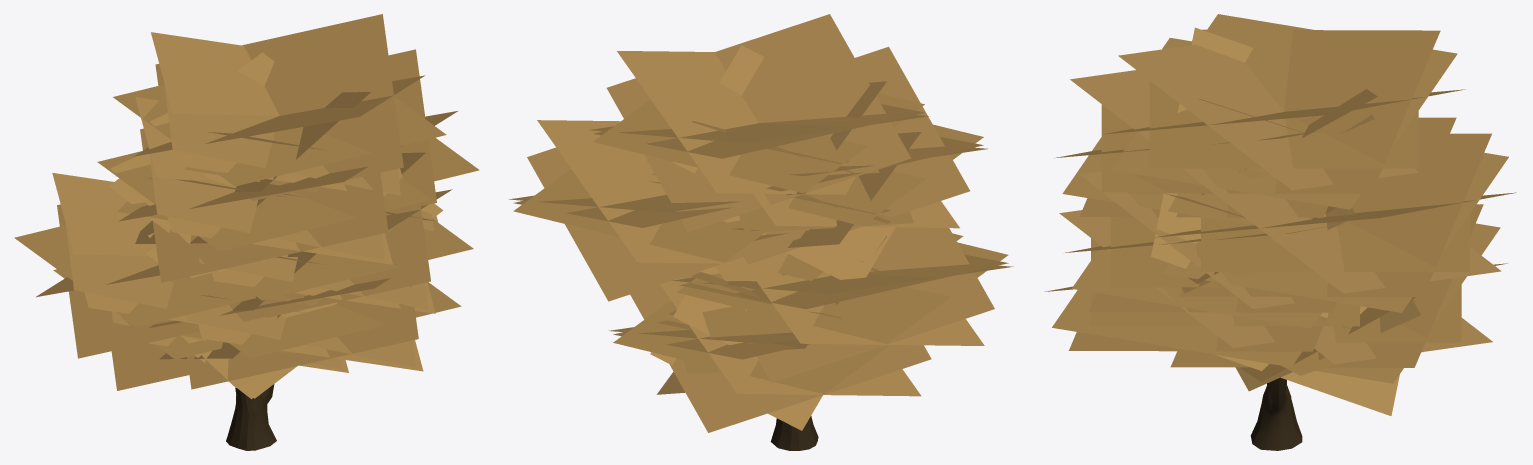
File: Oak LOD 0.fbx
3 renders of one model, left to right at view 1: azimuth 30°, elevation 25°; view 2: azimuth 150°, elevation 25°; view 3: azimuth 270°, elevation 25°, orthographic. The views are drawn at different scales.
Parts seen in each view (by area): view 1: Oak_LOD_0; view 2: Oak_LOD_0; view 3: Oak_LOD_0.
Boxes of the visible parts, bbox=[...] form: Oak_LOD_0: bbox=[14, 14, 479, 450]; Oak_LOD_0: bbox=[509, 14, 1013, 450]; Oak_LOD_0: bbox=[1044, 14, 1516, 450].
Bounding box in the file's own units: 25.61 × 20.31 × 21.48.
